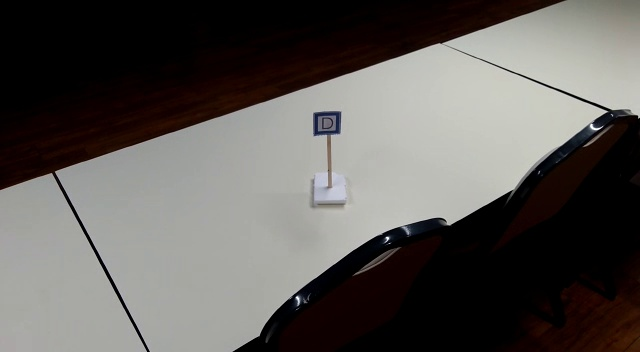durak: (312, 110, 341, 135)
